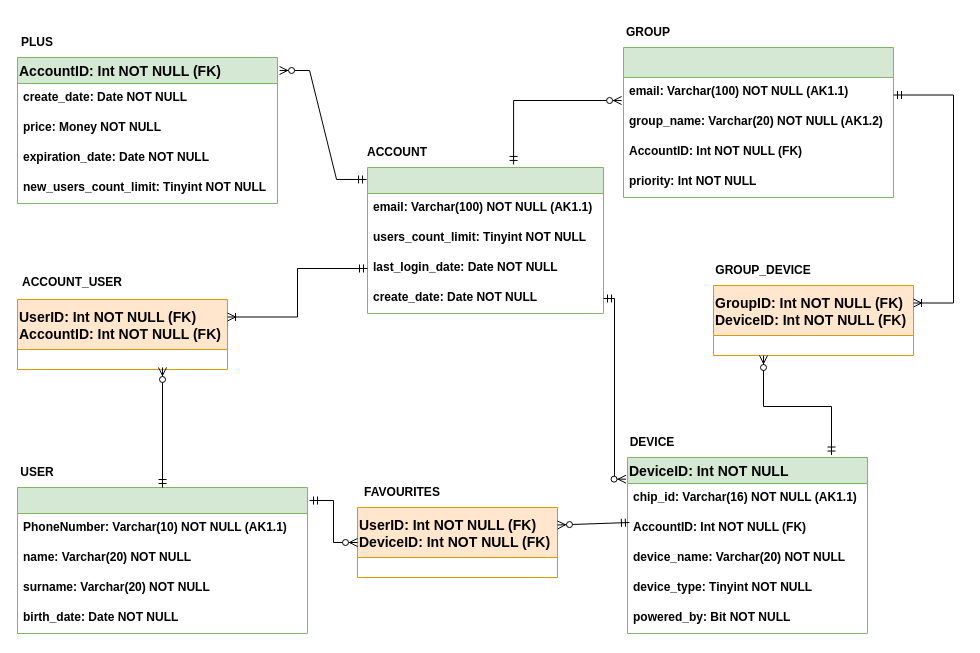
Some shapes in this 980 by 653 pixel diagram are drawn without their labels. Each missing label, with the box of its shape:
AccountID: Int NOT NULL: (366, 166, 604, 314)
GroupID: Int NOT NULL: (622, 46, 894, 198)
UserID: Int NOT NULL: (16, 486, 308, 634)
